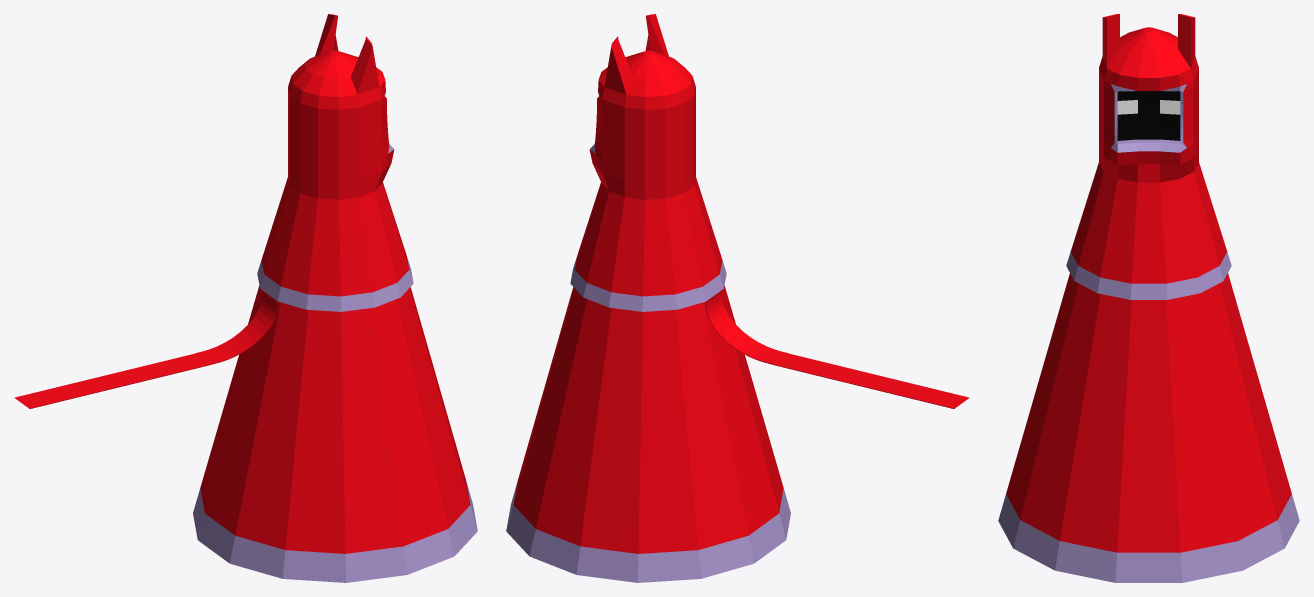
File: JpurneyStart.glb
3 renders of one model, left to right at view 1: azimuth 30°, elevation 25°; view 2: azimuth 150°, elevation 25°; view 3: azimuth 270°, elevation 25°, orthographic. The views are drawn at different scales.
Visible parts, largest first — view 1: Cylinder; view 2: Cylinder; view 3: Cylinder.
Boxes of the visible parts, <box> form: Cylinder: <box>14,14,477,582</box>; Cylinder: <box>506,14,969,582</box>; Cylinder: <box>998,14,1299,582</box>.
Bounding box in the file's own units: 5.71 × 6.17 × 3.27.
